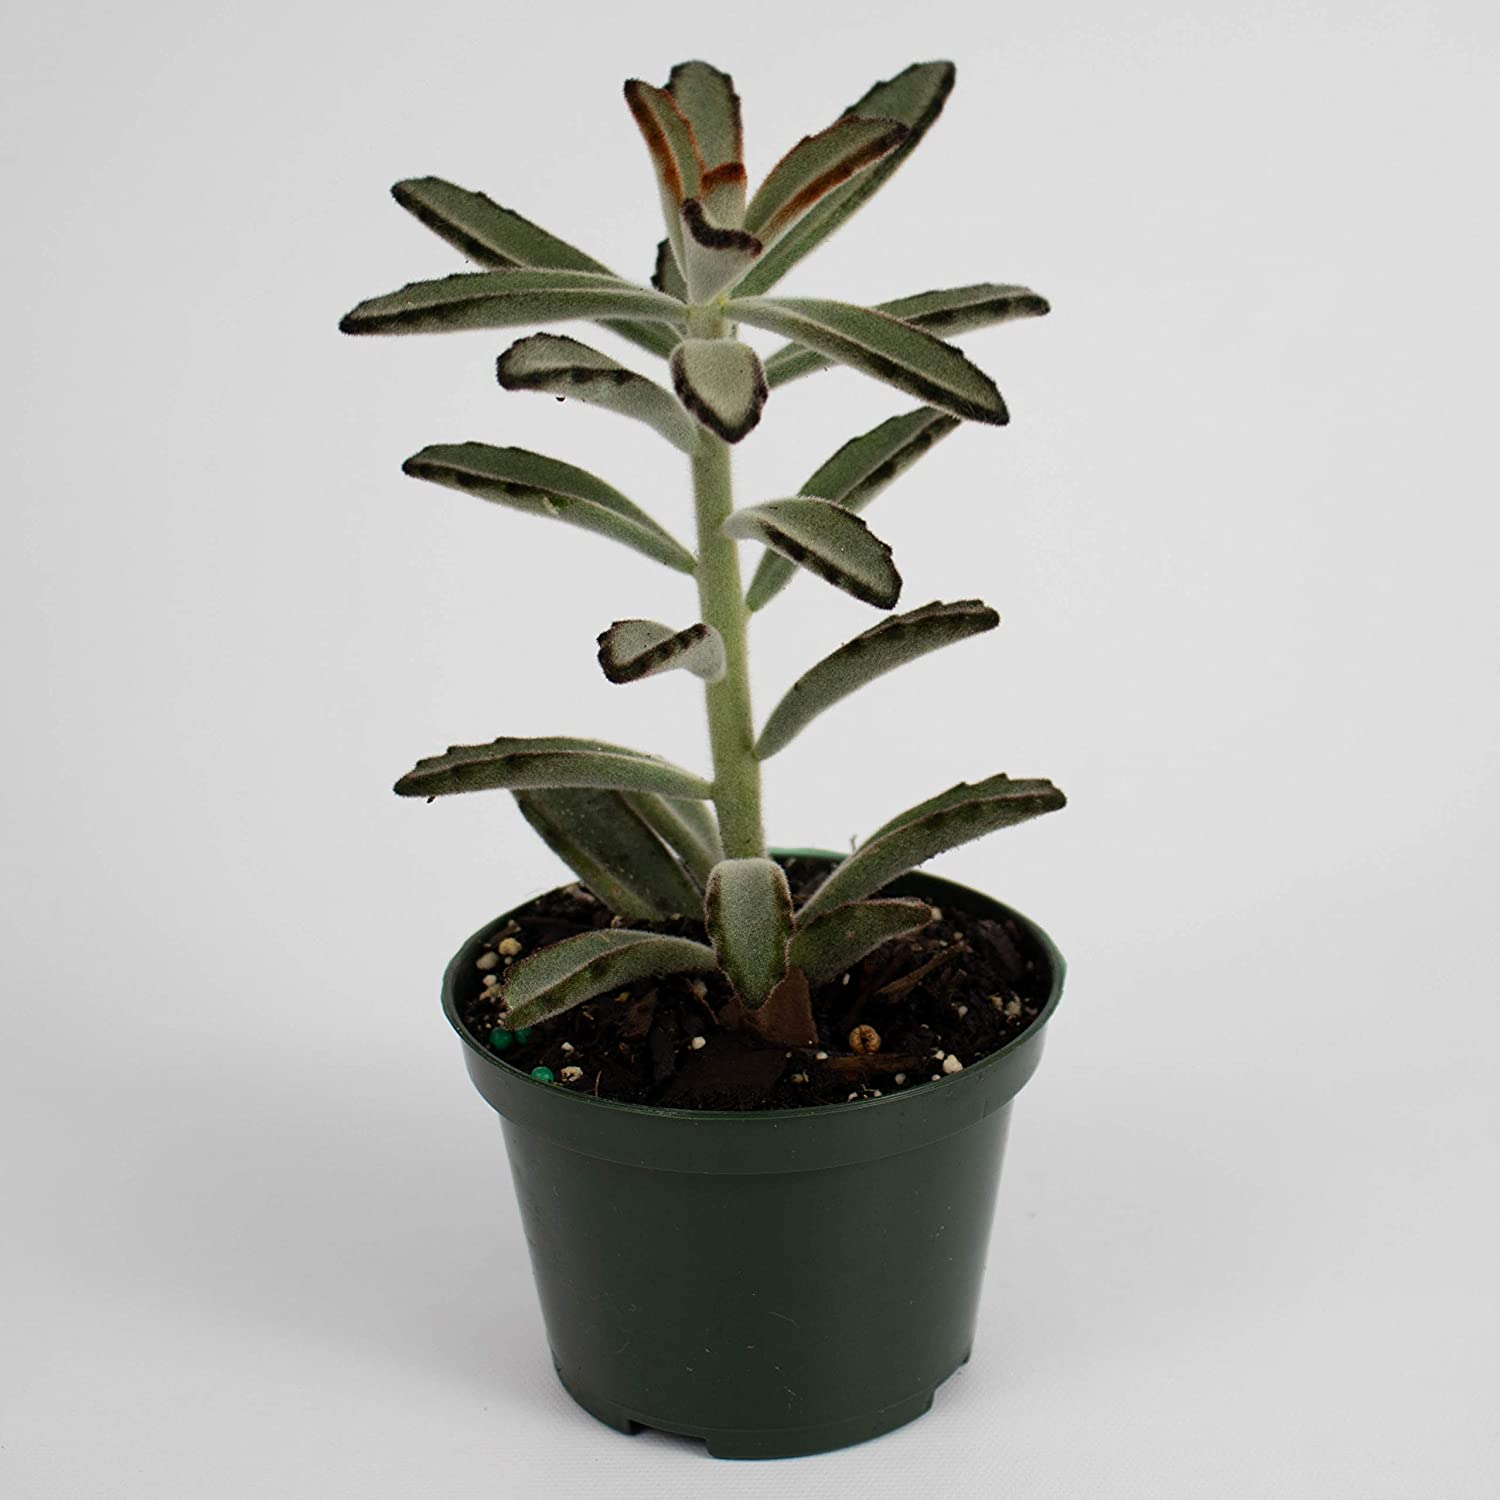tanaman: (323, 12, 1095, 1473)
